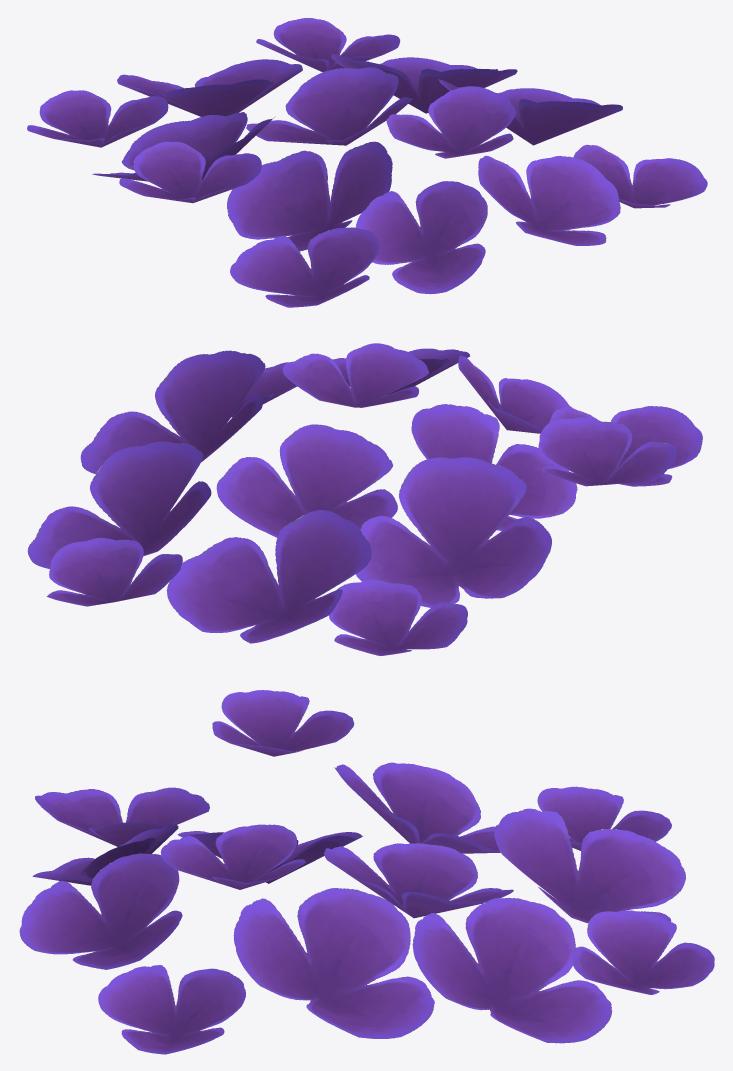
File: Plant_7_Big.gltf
3 views of the same model, one above another, from view 1: azimuth 30°, elevation 25°; view 2: azimuth 150°, elevation 25°; view 3: azimuth 270°, elevation 25° (orthographic). The views are drawn at different scales.
Visible parts, largest first — view 1: Plant_7_Big; view 2: Plant_7_Big; view 3: Plant_7_Big.
Part boxes in pixels (bbox=[...]): Plant_7_Big: bbox=[27, 18, 707, 307]; Plant_7_Big: bbox=[27, 343, 702, 655]; Plant_7_Big: bbox=[19, 690, 714, 1054].
Size of the model in its own units: 1.31 by 0.2534 by 1.36.
Materials: 1 (1 with a texture image).
